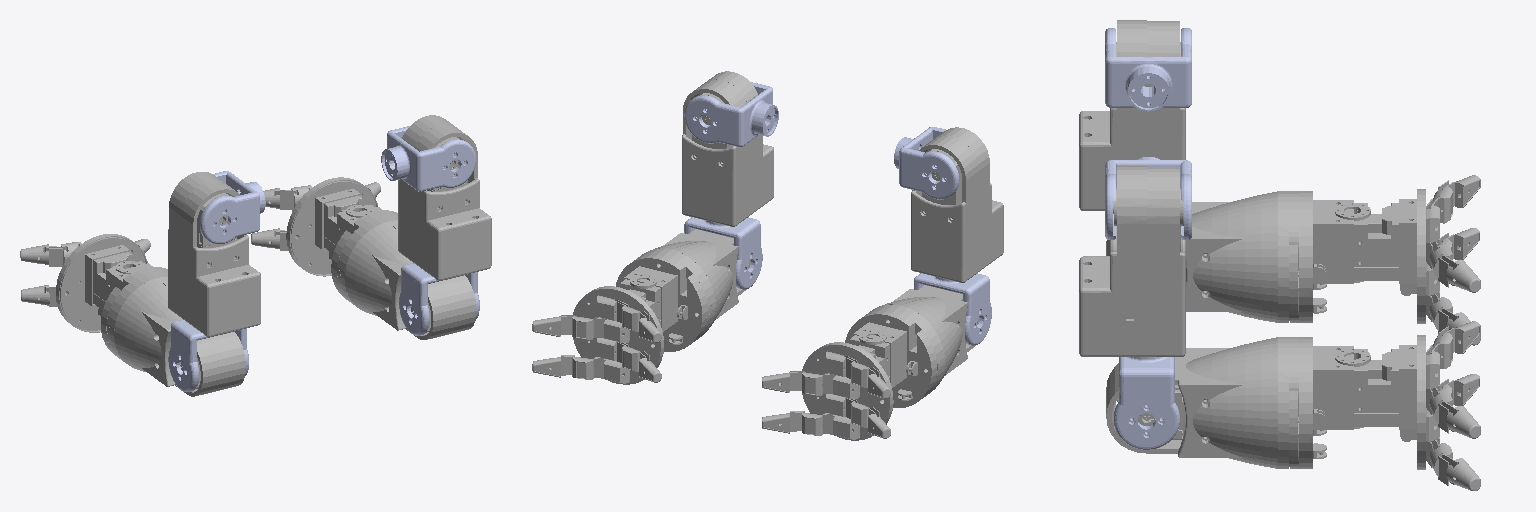
URDF robot description (flov2withheadnew):
<?xml version="1.0" encoding="utf-8"?>
<!-- This URDF was automatically created by SolidWorks to URDF Exporter! Originally created by [author] ([email redacted]) 
     Commit Version: 1.6.0-4-g7f85cfe  Build Version: 1.6.7995.38578
     For more information, please see http://wiki.ros.org/sw_urdf_exporter -->
<robot
  name="flov2withheadnew">
  <link
    name="base_link">
    <inertial>
      <origin
        xyz="0.000333168231090752 -0.0490077134325243 0.105556739128517"
        rpy="0 0 0" />
      <mass
        value="0.43756889593348" />
      <inertia
        ixx="0.000780173945392212"
        ixy="1.72547696446318E-06"
        ixz="-8.11722846382929E-08"
        iyy="0.000825842165328829"
        iyz="4.67151417985947E-05"
        izz="0.000643183765667985" />
    </inertial>
    <visual>
      <origin
        xyz="0 0 0"
        rpy="0 0 0" />
      <geometry>
        <mesh
          filename="package://flov2withheadnew/meshes/base_link.STL" />
      </geometry>
      <material
        name="">
        <color
          rgba="1 1 1 1" />
      </material>
    </visual>
    <collision>
      <origin
        xyz="0 0 0"
        rpy="0 0 0" />
      <geometry>
        <mesh
          filename="package://flov2withheadnew/meshes/base_link.STL" />
      </geometry>
    </collision>
  </link>
  <link
    name="right_up_joint">
    <inertial>
      <origin
        xyz="5.09595476927416E-10 7.24041410160581E-10 -0.0157092653420776"
        rpy="0 0 0" />
      <mass
        value="0.0208133468453592" />
      <inertia
        ixx="6.27974968154286E-06"
        ixy="-1.32343047844244E-11"
        ixz="8.9577378535133E-14"
        iyy="1.11423800240112E-05"
        iyz="1.2794408445243E-13"
        izz="8.2135527700594E-06" />
    </inertial>
    <visual>
      <origin
        xyz="0 0 0"
        rpy="0 0 0" />
      <geometry>
        <mesh
          filename="package://flov2withheadnew/meshes/right_up_joint.STL" />
      </geometry>
      <material
        name="">
        <color
          rgba="0.792156862745098 0.819607843137255 0.933333333333333 1" />
      </material>
    </visual>
    <collision>
      <origin
        xyz="0 0 0"
        rpy="0 0 0" />
      <geometry>
        <mesh
          filename="package://flov2withheadnew/meshes/right_up_joint.STL" />
      </geometry>
    </collision>
  </link>
  <joint
    name="r1"
    type="revolute">
    <origin
      xyz="0.093361211695552 -0.0510621773979171 0.130810083582386"
      rpy="1.5707963267949 0 1.5707963267949" />
    <parent
      link="base_link" />
    <child
      link="right_up_joint" />
    <axis
      xyz="0 0 1" />
    <limit
      lower="-3.14"
      upper="3.14"
      effort="100"
      velocity="10" />
  </joint>
  <link
    name="right_up_arm">
    <inertial>
      <origin
        xyz="0.0373903260955438 6.01721482873518E-05 -0.00541151025560816"
        rpy="0 0 0" />
      <mass
        value="0.142004365290478" />
      <inertia
        ixx="3.19807239576317E-05"
        ixy="-4.35320002639336E-08"
        ixz="2.24405433812147E-06"
        iyy="6.16421105939795E-05"
        iyz="9.81629533545318E-10"
        izz="6.84742764155626E-05" />
    </inertial>
    <visual>
      <origin
        xyz="0 0 0"
        rpy="0 0 0" />
      <geometry>
        <mesh
          filename="package://flov2withheadnew/meshes/right_up_arm.STL" />
      </geometry>
      <material
        name="">
        <color
          rgba="0.752941176470588 0.752941176470588 0.752941176470588 1" />
      </material>
    </visual>
    <collision>
      <origin
        xyz="0 0 0"
        rpy="0 0 0" />
      <geometry>
        <mesh
          filename="package://flov2withheadnew/meshes/right_up_arm.STL" />
      </geometry>
    </collision>
  </link>
  <joint
    name="r2"
    type="revolute">
    <origin
      xyz="0 0 0"
      rpy="-1.5708 0 -1.5708" />
    <parent
      link="right_up_joint" />
    <child
      link="right_up_arm" />
    <axis
      xyz="0 0 -1" />
    <limit
      lower="-3.14"
      upper="3.14"
      effort="100"
      velocity="10" />
  </joint>
  <link
    name="right_low_joint">
    <inertial>
      <origin
        xyz="0.101290734657923 -5.09595143860508E-10 -0.00100000072404148"
        rpy="0 0 0" />
      <mass
        value="0.0208133468453592" />
      <inertia
        ixx="8.21355277005941E-06"
        ixy="-8.95773977557011E-14"
        ixz="-1.27944096469429E-13"
        iyy="6.27974968154287E-06"
        iyz="-1.32343048011784E-11"
        izz="1.11423800240113E-05" />
    </inertial>
    <visual>
      <origin
        xyz="0 0 0"
        rpy="0 0 0" />
      <geometry>
        <mesh
          filename="package://flov2withheadnew/meshes/right_low_joint.STL" />
      </geometry>
      <material
        name="">
        <color
          rgba="0.792156862745098 0.819607843137255 0.933333333333333 1" />
      </material>
    </visual>
    <collision>
      <origin
        xyz="0 0 0"
        rpy="0 0 0" />
      <geometry>
        <mesh
          filename="package://flov2withheadnew/meshes/right_low_joint.STL" />
      </geometry>
    </collision>
  </link>
  <joint
    name="r3"
    type="revolute">
    <origin
      xyz="0 0 0"
      rpy="0 0 0" />
    <parent
      link="right_up_arm" />
    <child
      link="right_low_joint" />
    <axis
      xyz="1 0 0" />
    <limit
      lower="-3.14"
      upper="3.14"
      effort="100"
      velocity="10" />
  </joint>
  <link
    name="right_low_arm">
    <inertial>
      <origin
        xyz="0.048119627739288 -0.000145349481926281 0.000141021295786192"
        rpy="0 0 0" />
      <mass
        value="0.18903364369622" />
      <inertia
        ixx="7.6979741225698E-05"
        ixy="-3.38641336425117E-07"
        ixz="-3.25828337646383E-09"
        iyy="8.21074310058178E-05"
        iyz="-5.51403520464928E-07"
        izz="0.000103326261719523" />
    </inertial>
    <visual>
      <origin
        xyz="0 0 0"
        rpy="0 0 0" />
      <geometry>
        <mesh
          filename="package://flov2withheadnew/meshes/right_low_arm.STL" />
      </geometry>
      <material
        name="">
        <color
          rgba="0.752941176470588 0.752941176470588 0.752941176470588 1" />
      </material>
    </visual>
    <collision>
      <origin
        xyz="0 0 0"
        rpy="0 0 0" />
      <geometry>
        <mesh
          filename="package://flov2withheadnew/meshes/right_low_arm.STL" />
      </geometry>
    </collision>
  </link>
  <joint
    name="r4"
    type="revolute">
    <origin
      xyz="0.117 0 -0.00100000000000022"
      rpy="1.5707963267949 -1.5707963267949 0" />
    <parent
      link="right_low_joint" />
    <child
      link="right_low_arm" />
    <axis
      xyz="0 0 -1" />
    <limit
      lower="-3.14"
      upper="3.14"
      effort="100"
      velocity="10" />
  </joint>
  <link
    name="right_gripper">
    <inertial>
      <origin
        xyz="0.00394028289478576 0.000648626674702224 -0.0216328066989443"
        rpy="0 0 0" />
      <mass
        value="0.103299324219439" />
      <inertia
        ixx="2.0963004369683E-05"
        ixy="2.90752267814485E-08"
        ixz="-3.12167035365809E-07"
        iyy="1.89319959235232E-05"
        iyz="1.75561004581711E-08"
        izz="2.33522908570638E-05" />
    </inertial>
    <visual>
      <origin
        xyz="0 0 0"
        rpy="0 0 0" />
      <geometry>
        <mesh
          filename="package://flov2withheadnew/meshes/right_gripper.STL" />
      </geometry>
      <material
        name="">
        <color
          rgba="0.752941176470588 0.752941176470588 0.752941176470588 1" />
      </material>
    </visual>
    <collision>
      <origin
        xyz="0 0 0"
        rpy="0 0 0" />
      <geometry>
        <mesh
          filename="package://flov2withheadnew/meshes/right_gripper.STL" />
      </geometry>
    </collision>
  </link>
  <joint
    name="r5"
    type="fixed">
    <origin
      xyz="0.151140016004298 0.000250000000047816 -0.000500000000000167"
      rpy="1.5707963267949 0 1.5707963267949" />
    <parent
      link="right_low_arm" />
    <child
      link="right_gripper" />
    <axis
      xyz="0 0 0" />
  </joint>
  <link
    name="left_up_joint">
    <inertial>
      <origin
        xyz="-5.09595438763499E-10 -7.24041521182883E-10 -0.0157092653420777"
        rpy="0 0 0" />
      <mass
        value="0.0208133468453592" />
      <inertia
        ixx="6.27974968154287E-06"
        ixy="-1.32343047861589E-11"
        ixz="-8.95773956018588E-14"
        iyy="1.11423800240112E-05"
        iyz="-1.27944102488138E-13"
        izz="8.21355277005941E-06" />
    </inertial>
    <visual>
      <origin
        xyz="0 0 0"
        rpy="0 0 0" />
      <geometry>
        <mesh
          filename="package://flov2withheadnew/meshes/left_up_joint.STL" />
      </geometry>
      <material
        name="">
        <color
          rgba="0.792156862745098 0.819607843137255 0.933333333333333 1" />
      </material>
    </visual>
    <collision>
      <origin
        xyz="0 0 0"
        rpy="0 0 0" />
      <geometry>
        <mesh
          filename="package://flov2withheadnew/meshes/left_up_joint.STL" />
      </geometry>
    </collision>
  </link>
  <joint
    name="l1"
    type="revolute">
    <origin
      xyz="-0.0936387883044479 -0.0510621773979172 0.130726931673384"
      rpy="-1.5707963267949 0 1.5707963267949" />
    <parent
      link="base_link" />
    <child
      link="left_up_joint" />
    <axis
      xyz="0 0 1" />
    <limit
      lower="-3.14"
      upper="3.14"
      effort="100"
      velocity="10" />
  </joint>
  <link
    name="left_up_arm">
    <inertial>
      <origin
        xyz="0.0373903260955437 6.01721482867967E-05 -0.00541151025560827"
        rpy="0 0 0" />
      <mass
        value="0.142004365290477" />
      <inertia
        ixx="3.19807239576316E-05"
        ixy="-4.3532000263962E-08"
        ixz="2.24405433812155E-06"
        iyy="6.16421105939794E-05"
        iyz="9.81629533561122E-10"
        izz="6.84742764155625E-05" />
    </inertial>
    <visual>
      <origin
        xyz="0 0 0"
        rpy="0 0 0" />
      <geometry>
        <mesh
          filename="package://flov2withheadnew/meshes/left_up_arm.STL" />
      </geometry>
      <material
        name="">
        <color
          rgba="0.752941176470588 0.752941176470588 0.752941176470588 1" />
      </material>
    </visual>
    <collision>
      <origin
        xyz="0 0 0"
        rpy="0 0 0" />
      <geometry>
        <mesh
          filename="package://flov2withheadnew/meshes/left_up_arm.STL" />
      </geometry>
    </collision>
  </link>
  <joint
    name="l2"
    type="revolute">
    <origin
      xyz="0 0 0"
      rpy="1.5707963267949 0 1.57079632679489" />
    <parent
      link="left_up_joint" />
    <child
      link="left_up_arm" />
    <axis
      xyz="0 0 -1" />
    <limit
      lower="-3.14"
      upper="3.14"
      effort="100"
      velocity="10" />
  </joint>
  <link
    name="left_low_joint">
    <inertial>
      <origin
        xyz="3.33066907387547E-16 -2.85966316598829E-10 0.0242907343896306"
        rpy="0 0 0" />
      <mass
        value="0.0208133475595526" />
      <inertia
        ixx="6.27974985366218E-06"
        ixy="-1.33778831811749E-11"
        ixz="1.17482825019078E-19"
        iyy="1.114238023727E-05"
        iyz="-4.94677559899214E-14"
        izz="8.21355305611453E-06" />
    </inertial>
    <visual>
      <origin
        xyz="0 0 0"
        rpy="0 0 0" />
      <geometry>
        <mesh
          filename="package://flov2withheadnew/meshes/left_low_joint.STL" />
      </geometry>
      <material
        name="">
        <color
          rgba="0.792156862745098 0.819607843137255 0.933333333333333 1" />
      </material>
    </visual>
    <collision>
      <origin
        xyz="0 0 0"
        rpy="0 0 0" />
      <geometry>
        <mesh
          filename="package://flov2withheadnew/meshes/left_low_joint.STL" />
      </geometry>
    </collision>
  </link>
  <joint
    name="l3"
    type="revolute">
    <origin
      xyz="0.077 0 -0.00100000000000024"
      rpy="-1.5707963267949 0 -1.5707963267949" />
    <parent
      link="left_up_arm" />
    <child
      link="left_low_joint" />
    <axis
      xyz="0 0 1" />
    <limit
      lower="-3.14"
      upper="3.14"
      effort="100"
      velocity="10" />
  </joint>
  <link
    name="left_low_arm">
    <inertial>
      <origin
        xyz="0.0481196273812194 -0.000145349329485026 0.000141021295786525"
        rpy="0 0 0" />
      <mass
        value="0.18903364369622" />
      <inertia
        ixx="7.69797412256979E-05"
        ixy="-3.38641336425111E-07"
        ixz="-3.25828337644673E-09"
        iyy="8.21074310058178E-05"
        iyz="-5.51403520464904E-07"
        izz="0.000103326261719523" />
    </inertial>
    <visual>
      <origin
        xyz="0 0 0"
        rpy="0 0 0" />
      <geometry>
        <mesh
          filename="package://flov2withheadnew/meshes/left_low_arm.STL" />
      </geometry>
      <material
        name="">
        <color
          rgba="0.752941176470588 0.752941176470588 0.752941176470588 1" />
      </material>
    </visual>
    <collision>
      <origin
        xyz="0 0 0"
        rpy="0 0 0" />
      <geometry>
        <mesh
          filename="package://flov2withheadnew/meshes/left_low_arm.STL" />
      </geometry>
    </collision>
  </link>
  <joint
    name="l4"
    type="revolute">
    <origin
      xyz="0 0 0.04"
      rpy="-1.5707963267949 0 -1.5707963267949" />
    <parent
      link="left_low_joint" />
    <child
      link="left_low_arm" />
    <axis
      xyz="0 0 -1" />
    <limit
      lower="-3.14"
      upper="3.14"
      effort="100"
      velocity="10" />
  </joint>
  <link
    name="left_gripper">
    <inertial>
      <origin
        xyz="0.00394028289479295 -0.0216328066989445 -0.000648626674702668"
        rpy="0 0 0" />
      <mass
        value="0.103299324219439" />
      <inertia
        ixx="2.09630043696831E-05"
        ixy="-3.12167035365805E-07"
        ixz="-2.90752267814505E-08"
        iyy="2.33522908570638E-05"
        iyz="-1.75561004581685E-08"
        izz="1.89319959235233E-05" />
    </inertial>
    <visual>
      <origin
        xyz="0 0 0"
        rpy="0 0 0" />
      <geometry>
        <mesh
          filename="package://flov2withheadnew/meshes/left_gripper.STL" />
      </geometry>
      <material
        name="">
        <color
          rgba="0.752941176470588 0.752941176470588 0.752941176470588 1" />
      </material>
    </visual>
    <collision>
      <origin
        xyz="0 0 0"
        rpy="0 0 0" />
      <geometry>
        <mesh
          filename="package://flov2withheadnew/meshes/left_gripper.STL" />
      </geometry>
    </collision>
  </link>
  <joint
    name="l5"
    type="fixed">
    <origin
      xyz="0.15114001564623 0.000250000152477973 -0.000500000000000389"
      rpy="-3.14159265358979 0 1.5707963267949" />
    <parent
      link="left_low_arm" />
    <child
      link="left_gripper" />
    <axis
      xyz="0 0 0" />
  </joint>
</robot>

--- Render facts (derived) ---
The picture shows the robot from 3 angles, left to right: view 1: azimuth 30°, elevation 25°; view 2: azimuth 150°, elevation 25°; view 3: azimuth 270°, elevation 25°; orthographic projection.
Model flov2withheadnew with 11 links and 10 joints (8 revolute, 2 fixed), rooted at base_link, posed every joint at zero.
Visible links, largest first — view 1: left_up_arm, right_up_arm, left_low_arm, right_low_arm, left_gripper, right_gripper, right_up_joint, left_up_joint, right_low_joint, left_low_joint; view 2: right_gripper, left_gripper, left_up_arm, right_up_arm, left_low_arm, right_low_arm, right_up_joint, left_up_joint, right_low_joint, left_low_joint; view 3: right_low_arm, right_up_arm, right_gripper, left_gripper, left_low_arm, left_up_arm, left_up_joint, right_low_joint, right_up_joint.
Boxes of the visible links, x1,y1,x2,y2 form: left_up_arm: [168, 172, 260, 336]; right_up_arm: [398, 115, 491, 280]; left_low_arm: [102, 268, 245, 396]; right_low_arm: [333, 211, 476, 339]; left_gripper: [20, 234, 167, 349]; right_gripper: [251, 177, 396, 292]; right_up_joint: [381, 126, 475, 191]; left_up_joint: [200, 171, 265, 243]; right_low_joint: [399, 263, 479, 335]; left_low_joint: [168, 320, 248, 391]; right_gripper: [532, 257, 703, 384]; left_gripper: [762, 313, 932, 440]; left_up_arm: [911, 127, 1003, 282]; right_up_arm: [682, 71, 773, 226]; left_low_arm: [859, 285, 979, 398]; right_low_arm: [634, 229, 750, 341]; right_up_joint: [684, 82, 778, 146]; left_up_joint: [894, 127, 958, 199]; right_low_joint: [684, 217, 762, 289]; left_low_joint: [914, 273, 991, 345]; right_low_arm: [1106, 337, 1309, 468]; right_up_arm: [1079, 166, 1185, 356]; right_gripper: [1310, 321, 1480, 490]; left_gripper: [1310, 175, 1480, 345]; left_low_arm: [1106, 191, 1309, 322]; left_up_arm: [1079, 20, 1185, 210]; left_up_joint: [1105, 28, 1191, 111]; right_low_joint: [1114, 357, 1179, 449]; right_up_joint: [1105, 157, 1191, 239].
Size in the robot's own frame: 0.2922 by 0.2171 by 0.1753 metres.
10 mesh visuals loaded from 11 distinct referenced files (10 binary STL); not drawn: 1 (reference not matched to a file when rendering).